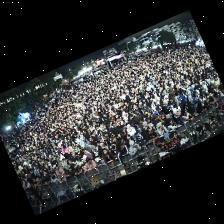person: (117, 144, 129, 169), (103, 149, 115, 166), (173, 103, 183, 123), (84, 158, 97, 172), (146, 128, 158, 143), (165, 119, 179, 131), (154, 111, 164, 127), (143, 122, 154, 136), (130, 141, 141, 155), (127, 124, 136, 141), (107, 139, 117, 154), (72, 164, 84, 176), (164, 100, 172, 118), (157, 122, 168, 135), (128, 114, 137, 129), (197, 101, 208, 113), (91, 145, 101, 158), (157, 105, 166, 119), (183, 110, 194, 121), (136, 135, 146, 147), (125, 135, 135, 147), (193, 93, 199, 112), (76, 133, 84, 147), (187, 90, 194, 106), (49, 173, 59, 184), (82, 149, 93, 159), (77, 156, 85, 169), (135, 111, 145, 121), (71, 151, 81, 161), (41, 175, 51, 185), (100, 143, 110, 153), (61, 157, 70, 168), (116, 133, 125, 144), (61, 144, 70, 154), (54, 166, 65, 174), (84, 139, 91, 151), (23, 180, 32, 189), (71, 144, 80, 153), (58, 173, 66, 183), (95, 158, 105, 166), (38, 169, 48, 176), (209, 94, 216, 104), (137, 128, 144, 138), (37, 178, 43, 189), (214, 92, 221, 101), (67, 160, 76, 167), (120, 128, 127, 135), (138, 120, 143, 129), (45, 165, 54, 170), (46, 169, 55, 174), (69, 167, 74, 176), (219, 90, 223, 96)
